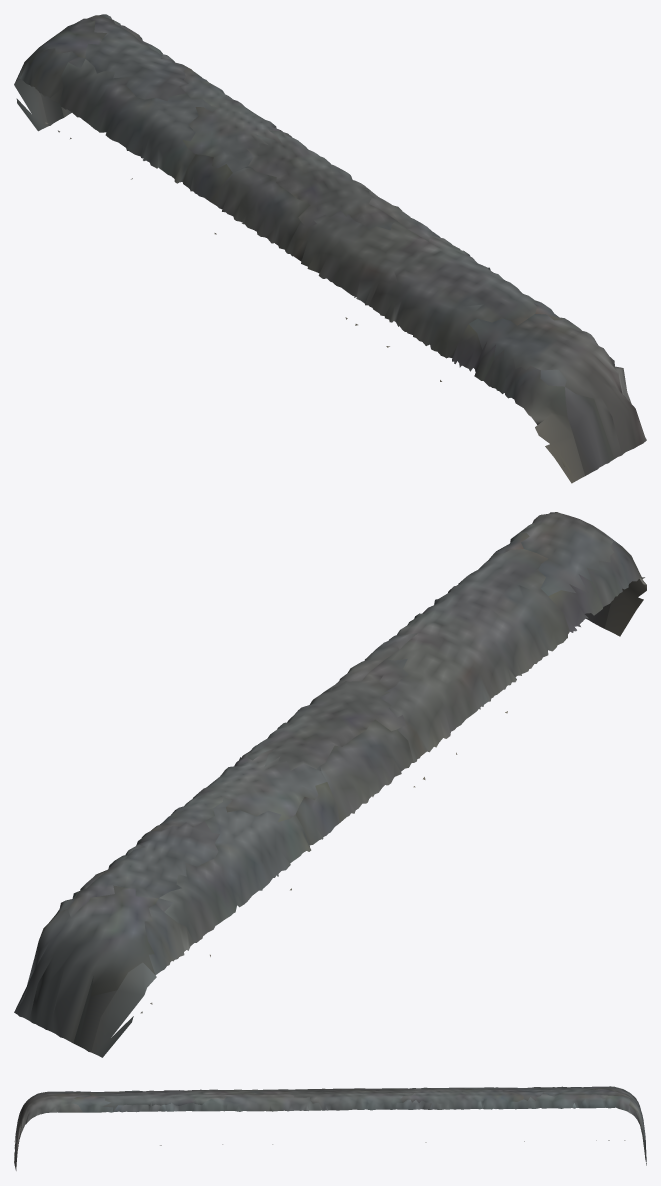
The model's file is run4_p2_c6_2.glb.
3 views of the same model, one above another, from view 1: azimuth 30°, elevation 25°; view 2: azimuth 150°, elevation 25°; view 3: azimuth 270°, elevation 25° (orthographic). The views are drawn at different scales.
Visible parts, largest first — view 1: run4_p2_straight_c6_2; view 2: run4_p2_straight_c6_2; view 3: run4_p2_straight_c6_2.
Part boxes in pixels (x1=…): run4_p2_straight_c6_2: x1=14, y1=14, x2=646, y2=483; run4_p2_straight_c6_2: x1=14, y1=512, x2=646, y2=1057; run4_p2_straight_c6_2: x1=14, y1=1086, x2=646, y2=1170.
Bounding box in the file's own units: 2.49 × 2.09 × 15.
Materials: 1 (1 with a texture image).
